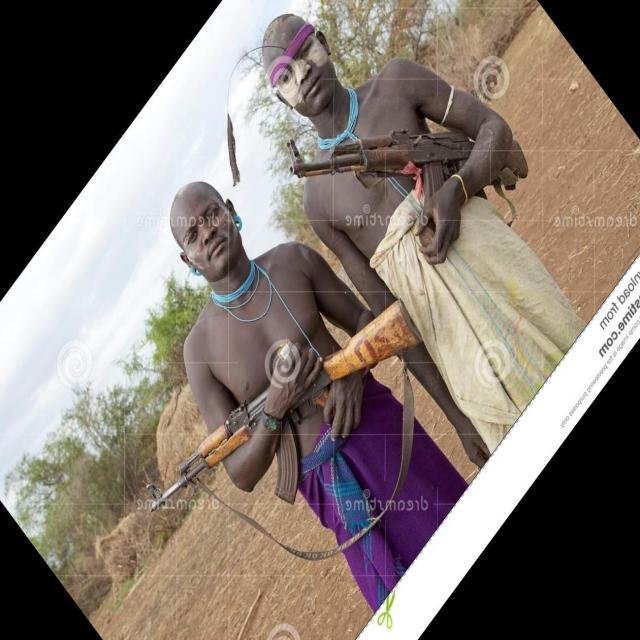weapon: (146, 298, 424, 514), (286, 136, 530, 252)
